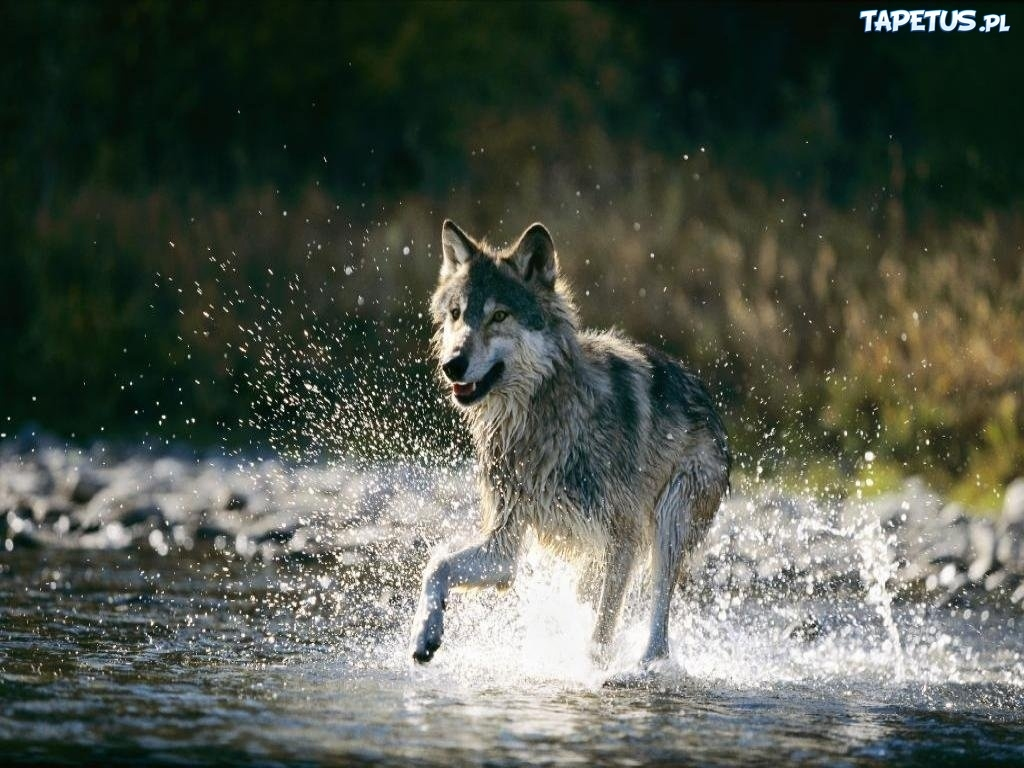wolf: (333, 208, 775, 683)
